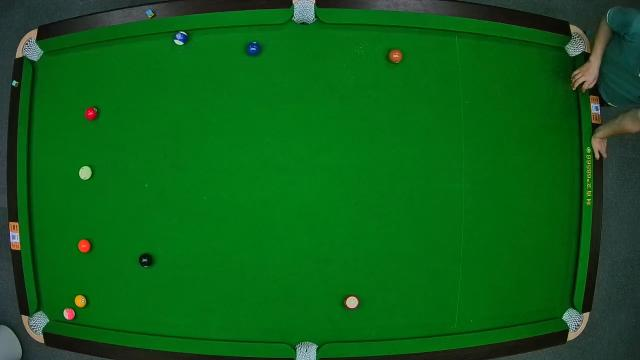bag1: (20, 36, 46, 64)
bag2: (292, 0, 318, 26)
bag3: (564, 28, 590, 60)
bag4: (25, 308, 51, 340)
bag5: (293, 335, 318, 360)
bag6: (556, 307, 592, 337)
ball0: (78, 166, 94, 182)
ball1: (74, 294, 88, 308)
ball10: (172, 31, 190, 47)
ball11: (343, 296, 359, 310)
ball12: (64, 308, 76, 322)
ball2: (245, 40, 261, 58)
ball3: (84, 106, 98, 122)
ball5: (78, 239, 92, 255)
ball7: (388, 48, 404, 64)
ball8: (138, 252, 154, 270)
